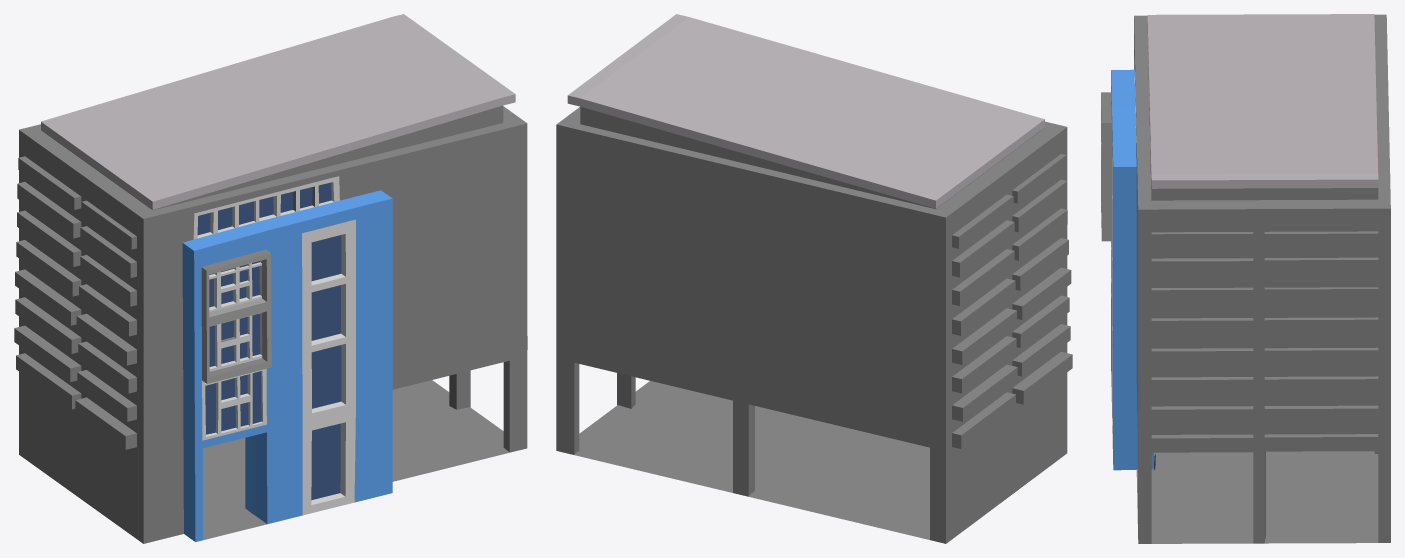
Rendered from building23.glb.
3 views of the same model, side by side, from view 1: azimuth 30°, elevation 25°; view 2: azimuth 150°, elevation 25°; view 3: azimuth 270°, elevation 25° (orthographic). The views are drawn at different scales.
Visible parts, largest first — view 1: Cube; view 2: Cube; view 3: Cube.
Boxes of the visible parts, box(x1,y1,x2,y2) form: Cube: box(14, 14, 527, 543); Cube: box(556, 14, 1072, 543); Cube: box(1101, 14, 1390, 543).
Bounding box in the file's own units: 9.8 × 8.1 × 5.9.
